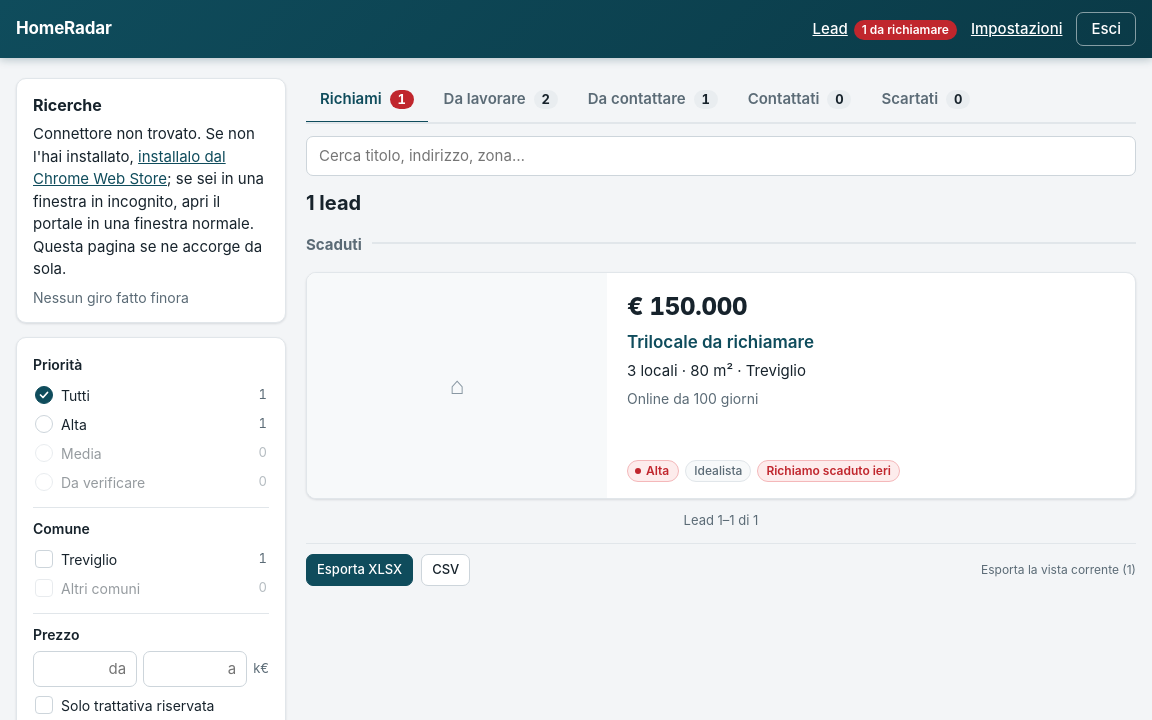
Test: lista dei lead › la ricerca a testo filtra tutte le schede
The width and height of the screenshot is (1152, 720).
Expected: the tab "Da lavorare 2" is shown, [430,78,572,124]
Type "villa" into the search field named "Cerca nei lead" at (721,156), box [306,136,1136,176]
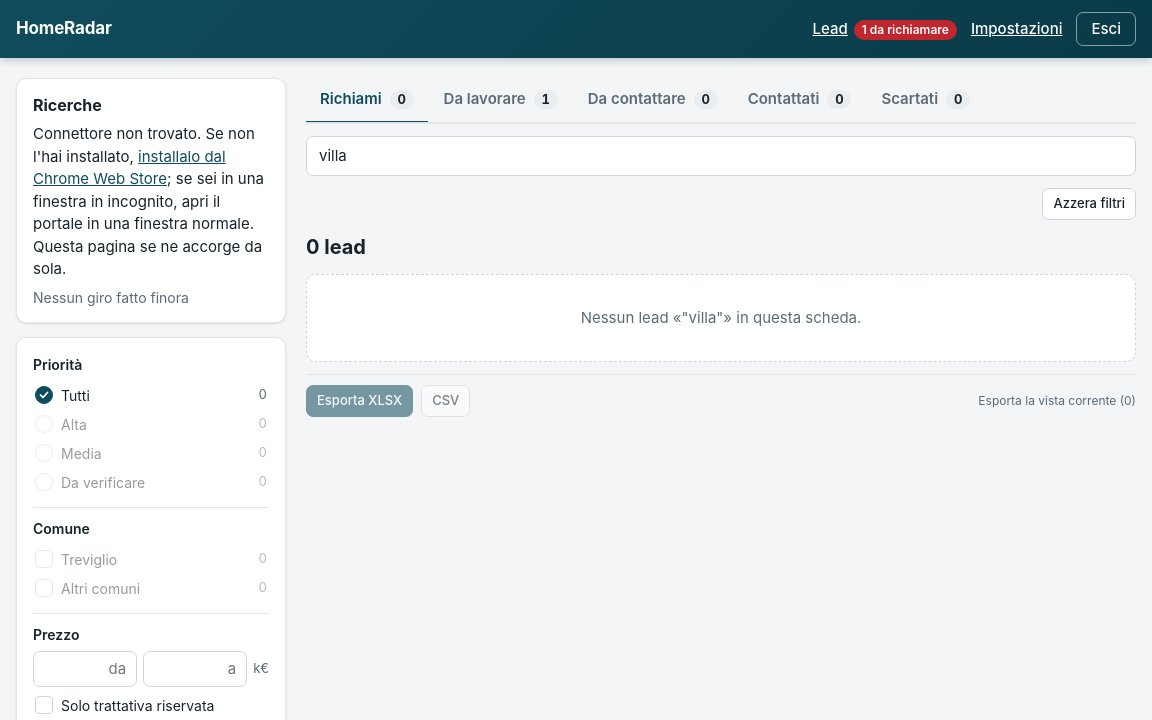
Now the tab with aria-label "Da lavorare (1)" is shown, box [430,78,572,124]
Now the tab with aria-label "Da contattare (0)" is shown, box [574,78,732,124]
